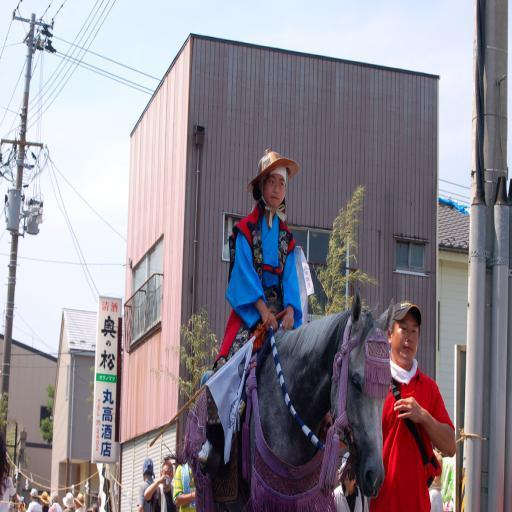horse: (192, 289, 394, 507)
